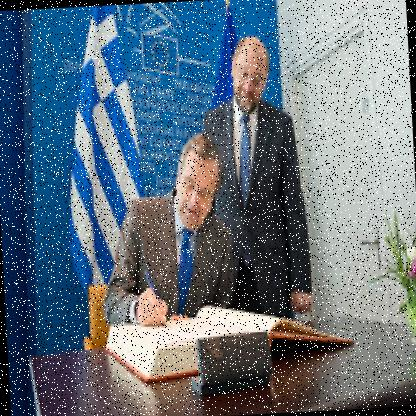gr: (57, 9, 153, 320)
